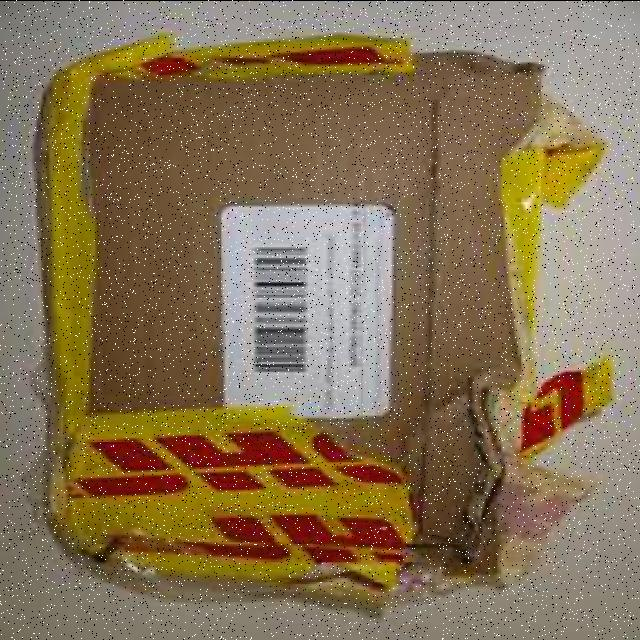defect: (29, 32, 545, 618)
